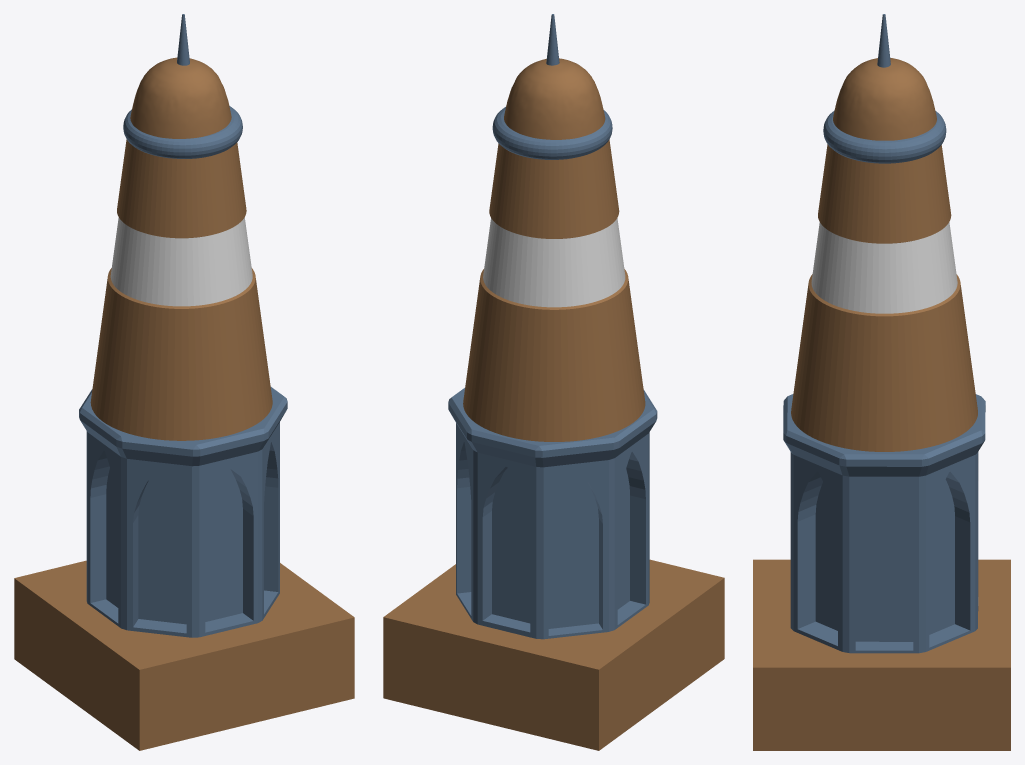
File: konik-temple (2).fbx
3 renders of one model, left to right at view 1: azimuth 30°, elevation 25°; view 2: azimuth 150°, elevation 25°; view 3: azimuth 270°, elevation 25°, orthographic. The views are drawn at different scales.
Visible parts, largest first — view 1: konik-temple; view 2: konik-temple; view 3: konik-temple.
Part boxes in pixels (x1,y1,x2,y2): konik-temple: (14, 14, 354, 750); konik-temple: (383, 14, 724, 750); konik-temple: (753, 14, 1010, 750).
Bounding box in the file's own units: 238 × 702 × 240.
